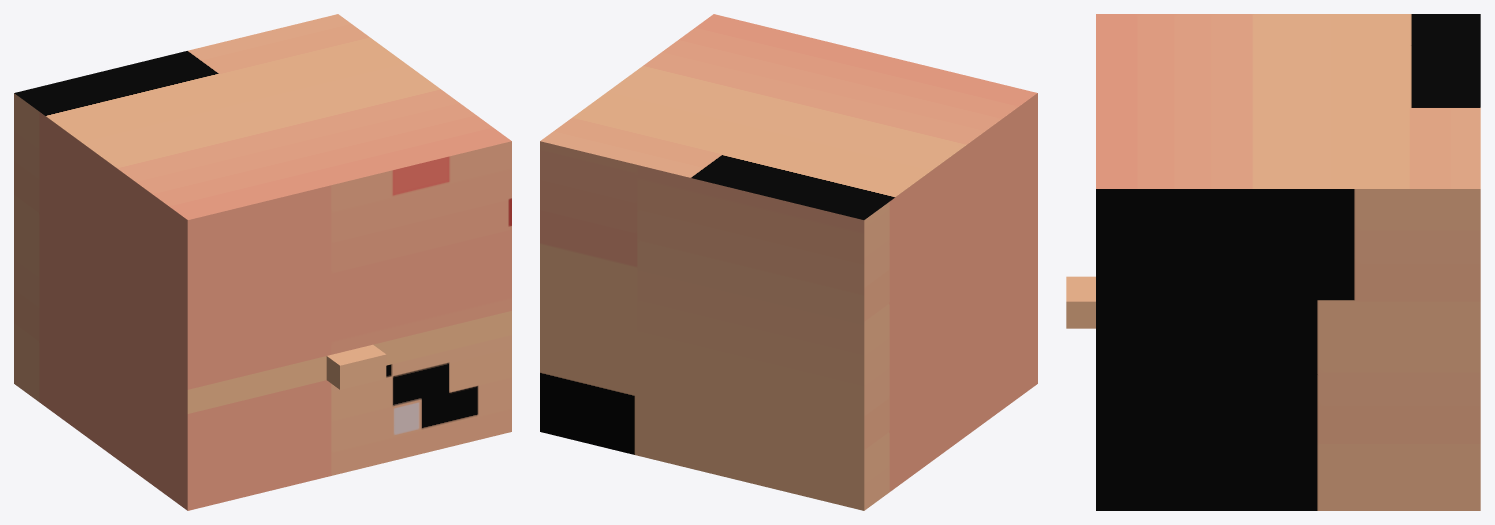
File: Head009.fbx
3 views of the same model, side by side, from view 1: azimuth 30°, elevation 25°; view 2: azimuth 150°, elevation 25°; view 3: azimuth 270°, elevation 25° (orthographic). The views are drawn at different scales.
Parts seen in each view (by area): view 1: Head009; view 2: Head009; view 3: Head009.
Part boxes in pixels (left/top/right/bottom): Head009: left=14, top=14, right=511, bottom=510; Head009: left=540, top=14, right=1037, bottom=510; Head009: left=1066, top=14, right=1480, bottom=510.
Bounding box in the file's own units: 13.88 × 11.9 × 13.88.
